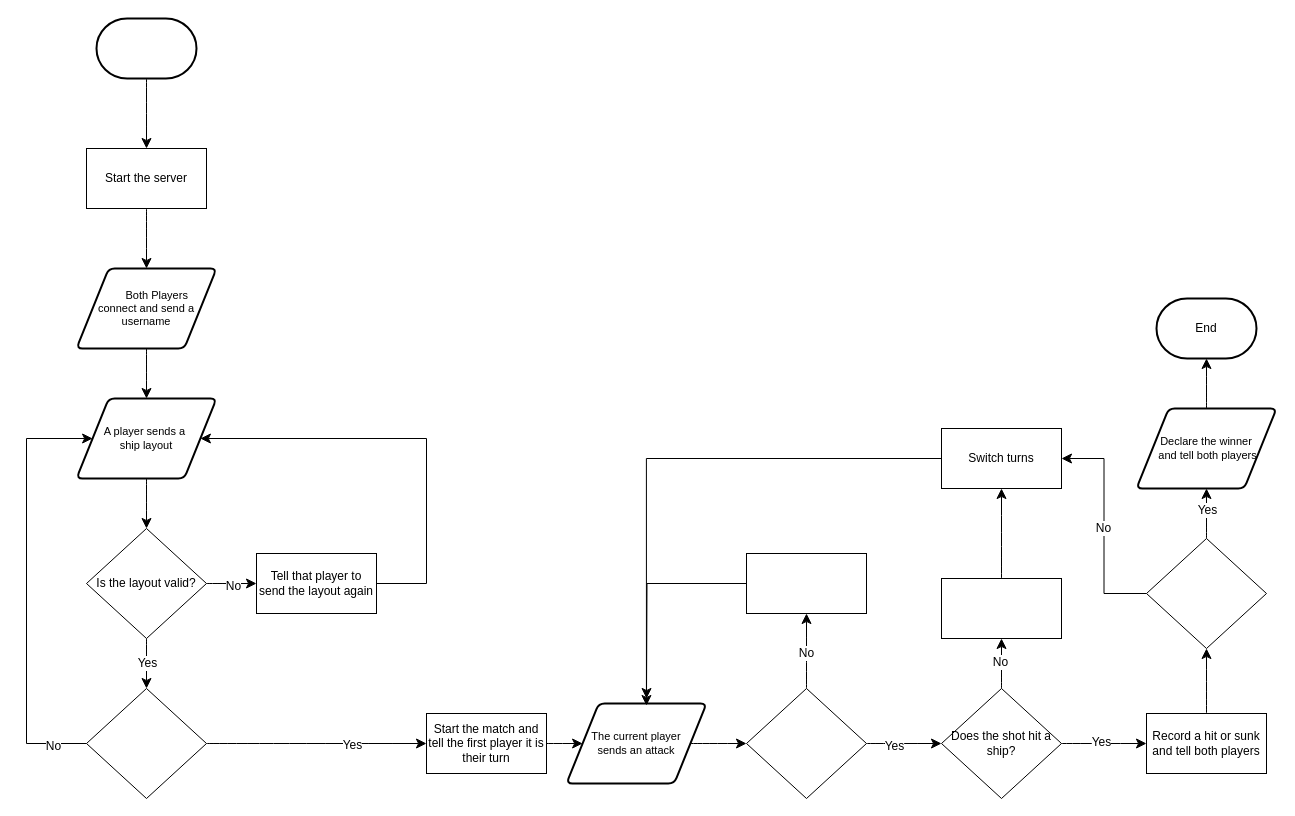
The diagram is 1295 pixels wide and 816 high, and some of its shapes have lost their labels. Here are the shapes that lost their labels. From the top down, the centre of each, then its label:
(146,48): Start
(806,583): Reject the Move
(1206,593): Are all of the opponent's ships sunk?
(1001,608): Record a miss and tell both players
(146,743): Have both players placed their ships?
(806,743): Is it this player's turn and a legal cell?
